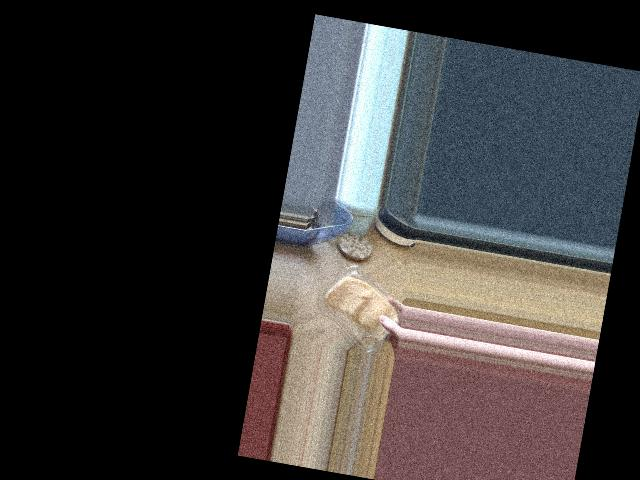cheese: (300, 250, 404, 355)
